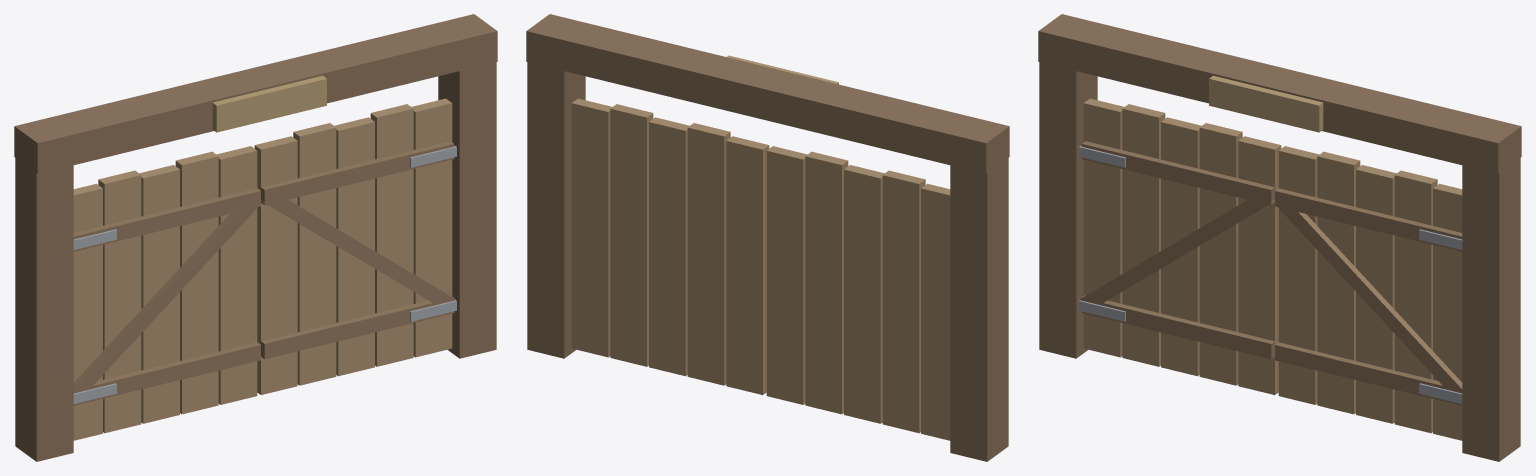
Rendered from wall_gate.glb.
3 renders of one model, left to right at view 1: azimuth 30°, elevation 25°; view 2: azimuth 150°, elevation 25°; view 3: azimuth 330°, elevation 25°, orthographic.
Parts seen in each view (by area): view 1: Gate.Lintel, Gate.Post, Gate.Post#2, Gate.Leaf#10, Gate.Leaf#6, Gate.Leaf#9, Gate.Leaf#5, Gate.Leaf#7, Gate.Leaf#8, Gate.Leaf#2, Gate.Leaf#4, Gate.Leaf#3 (+12 smaller); view 2: Gate.Lintel, Gate.Post, Gate.Post#2, Gate.Leaf#10, Gate.Leaf#9, Gate.Leaf#6, Gate.Leaf#5, Gate.Leaf#2, Gate.Leaf#4, Gate.Leaf#7, Gate.Leaf#3, Gate.Leaf#8 (+1 smaller); view 3: Gate.Lintel, Gate.Post#2, Gate.Post, Gate.Leaf#5, Gate.Leaf, Gate.Leaf#4, Gate.Leaf#10, Gate.Leaf#2, Gate.Leaf#3, Gate.Leaf#7, Gate.Leaf#9, Gate.Leaf#8 (+12 smaller).
Boxes of the visible parts, x1,y1,x2,y2 form: Gate.Lintel: (14, 14, 497, 173); Gate.Post: (15, 129, 73, 461); Gate.Post#2: (438, 62, 496, 358); Gate.Leaf#10: (254, 136, 297, 394); Gate.Leaf#6: (412, 98, 452, 357); Gate.Leaf#9: (293, 123, 336, 385); Gate.Leaf#5: (216, 146, 257, 404); Gate.Leaf#7: (370, 104, 413, 366); Gate.Leaf#8: (334, 117, 374, 376); Gate.Leaf#2: (98, 170, 141, 433); Gate.Leaf#4: (175, 151, 218, 414); Gate.Leaf#3: (139, 165, 179, 423); Gate.Lintel: (526, 14, 1009, 173); Gate.Post: (950, 129, 1008, 461); Gate.Post#2: (527, 62, 585, 358); Gate.Leaf#10: (726, 136, 769, 394); Gate.Leaf#9: (687, 123, 730, 385); Gate.Leaf#6: (571, 98, 611, 357); Gate.Leaf#5: (766, 146, 807, 404); Gate.Leaf#2: (882, 170, 925, 433); Gate.Leaf#4: (805, 151, 848, 414); Gate.Leaf#7: (610, 104, 653, 366); Gate.Leaf#3: (844, 165, 884, 423); Gate.Leaf#8: (649, 117, 689, 376); Gate.Lintel: (1038, 14, 1521, 173); Gate.Post#2: (1462, 129, 1520, 461); Gate.Post: (1039, 62, 1097, 358); Gate.Leaf#5: (1238, 136, 1281, 394); Gate.Leaf: (1083, 98, 1123, 357); Gate.Leaf#4: (1199, 123, 1242, 385); Gate.Leaf#10: (1278, 146, 1319, 404); Gate.Leaf#2: (1122, 104, 1165, 366); Gate.Leaf#3: (1161, 117, 1201, 376); Gate.Leaf#7: (1394, 170, 1437, 433); Gate.Leaf#9: (1317, 151, 1360, 414); Gate.Leaf#8: (1356, 165, 1396, 423).
Bounding box in the file's own units: 5 × 3.32 × 0.52.
